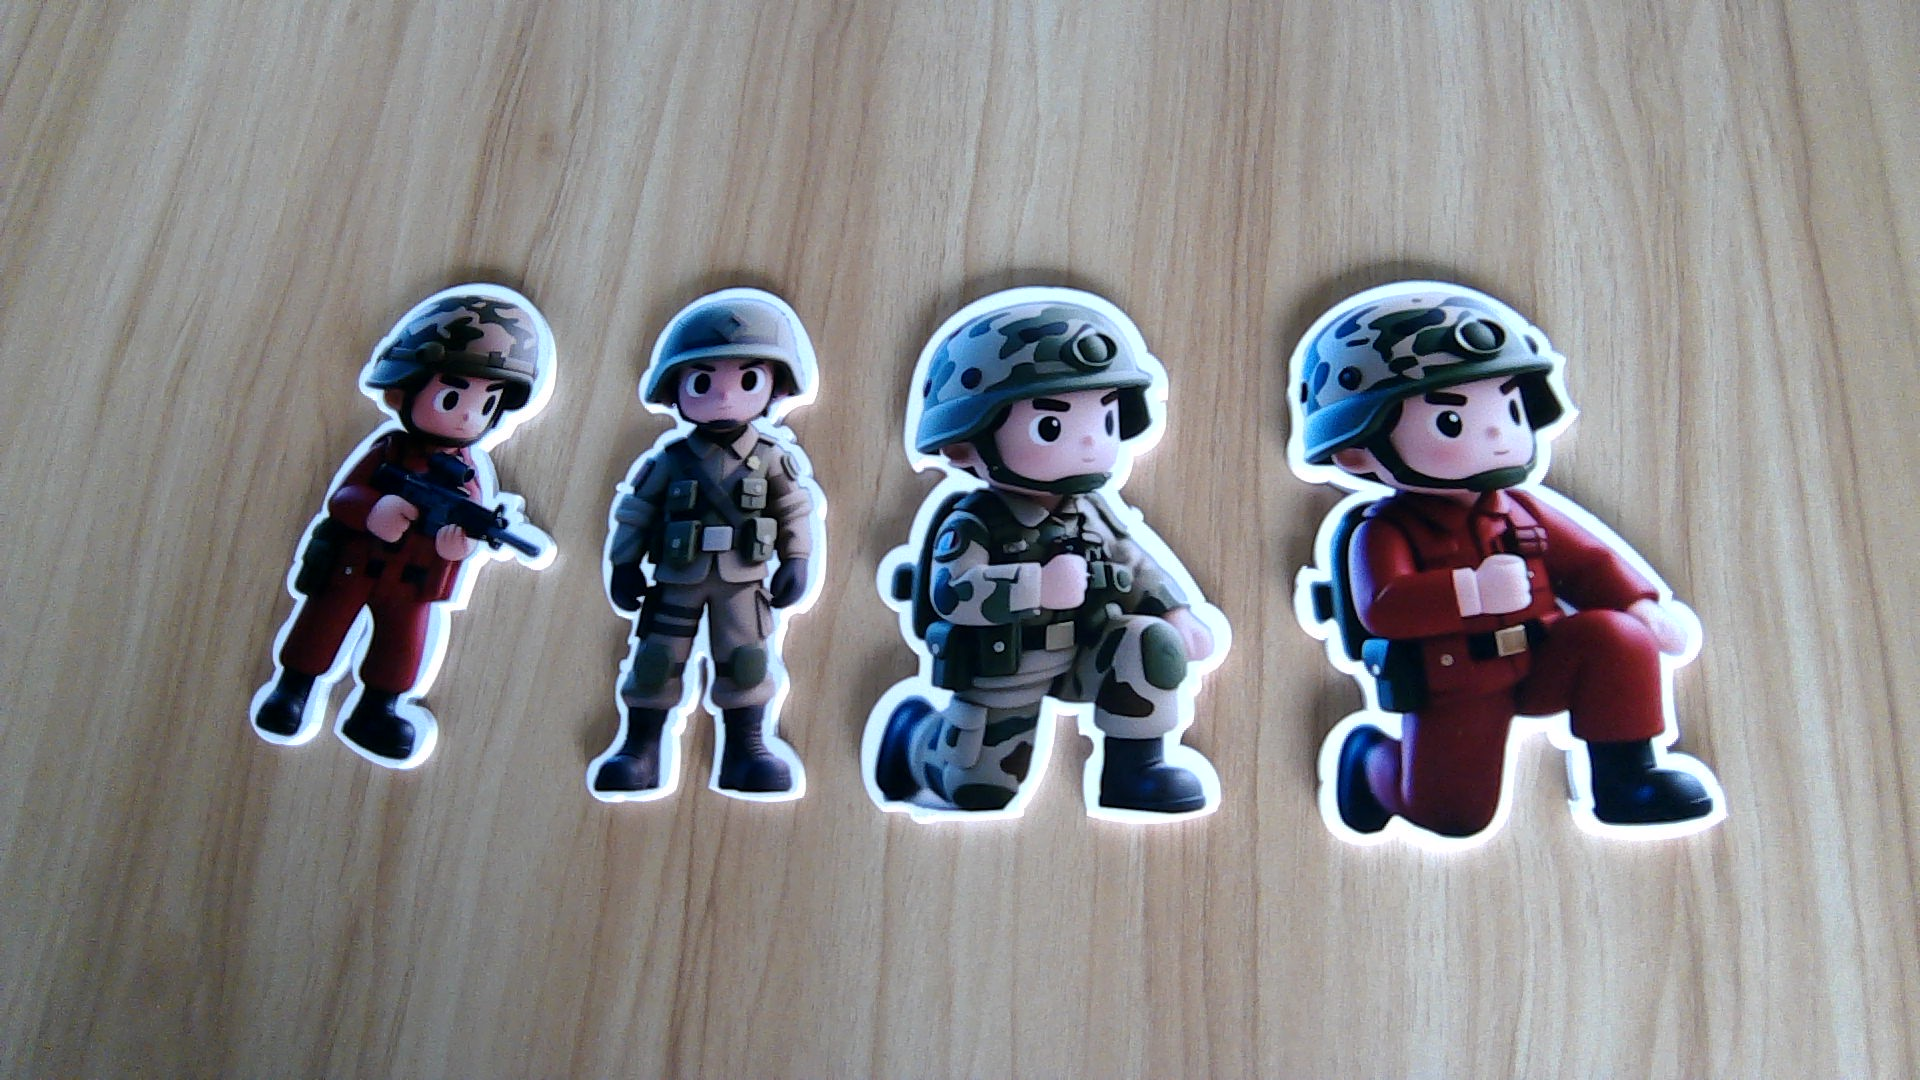友军: (857, 487, 1238, 828), (584, 423, 836, 807)
敌人1: (1286, 487, 1735, 861), (236, 444, 563, 767)
